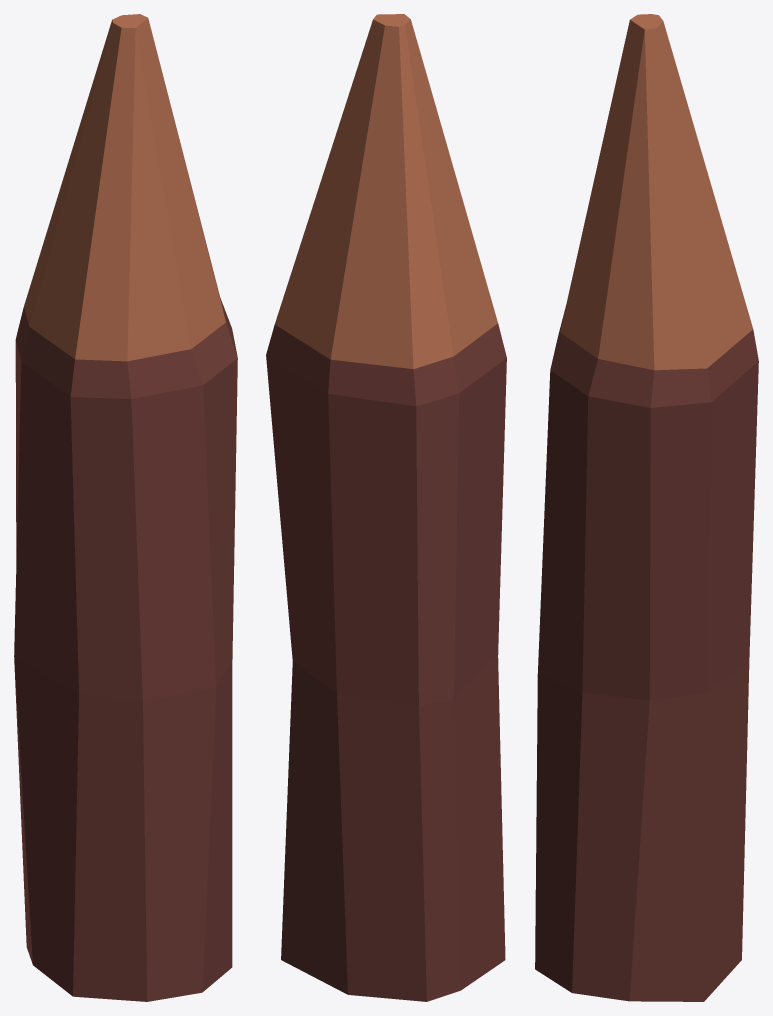
File: Wooden Pole Sharp 05.fbx
3 views of the same model, side by side, from view 1: azimuth 30°, elevation 25°; view 2: azimuth 150°, elevation 25°; view 3: azimuth 270°, elevation 25° (orthographic).
Parts seen in each view (by area): view 1: Wooden Pole Sharp 05; view 2: Wooden Pole Sharp 05; view 3: Wooden Pole Sharp 05.
Boxes of the visible parts, x1,y1,x2,y2 form: Wooden Pole Sharp 05: (14,14,237,1001); Wooden Pole Sharp 05: (266,14,506,1001); Wooden Pole Sharp 05: (535,14,758,1001).
Size of the model in its own units: 28.31 by 132 by 28.4.
